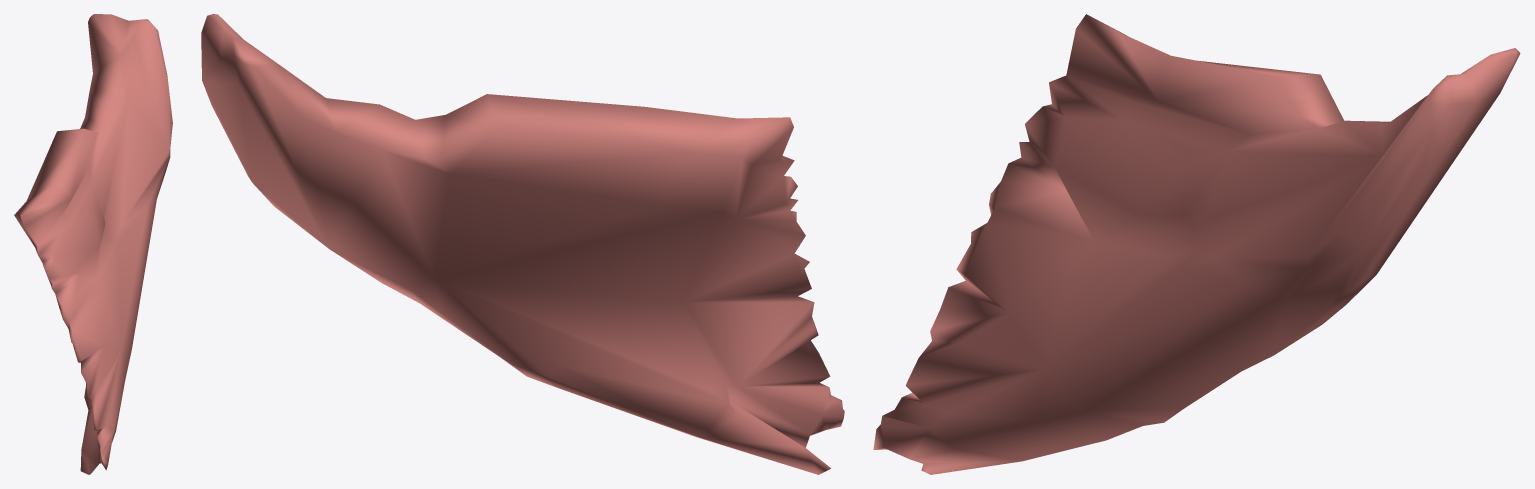
3 renders of one model, left to right at view 1: azimuth 30°, elevation 25°; view 2: azimuth 150°, elevation 25°; view 3: azimuth 270°, elevation 25°, orthographic. The views are drawn at different scales.
Visible parts, largest first — view 1: ZA_29d15e56516fcb8f; view 2: ZA_29d15e56516fcb8f; view 3: ZA_29d15e56516fcb8f.
Part boxes in pixels (<box>): ZA_29d15e56516fcb8f: <box>14,14,172,474</box>; ZA_29d15e56516fcb8f: <box>201,14,844,474</box>; ZA_29d15e56516fcb8f: <box>873,14,1520,474</box>.
Size of the model in its own units: 0.0177 by 0.0225 by 0.0228.
